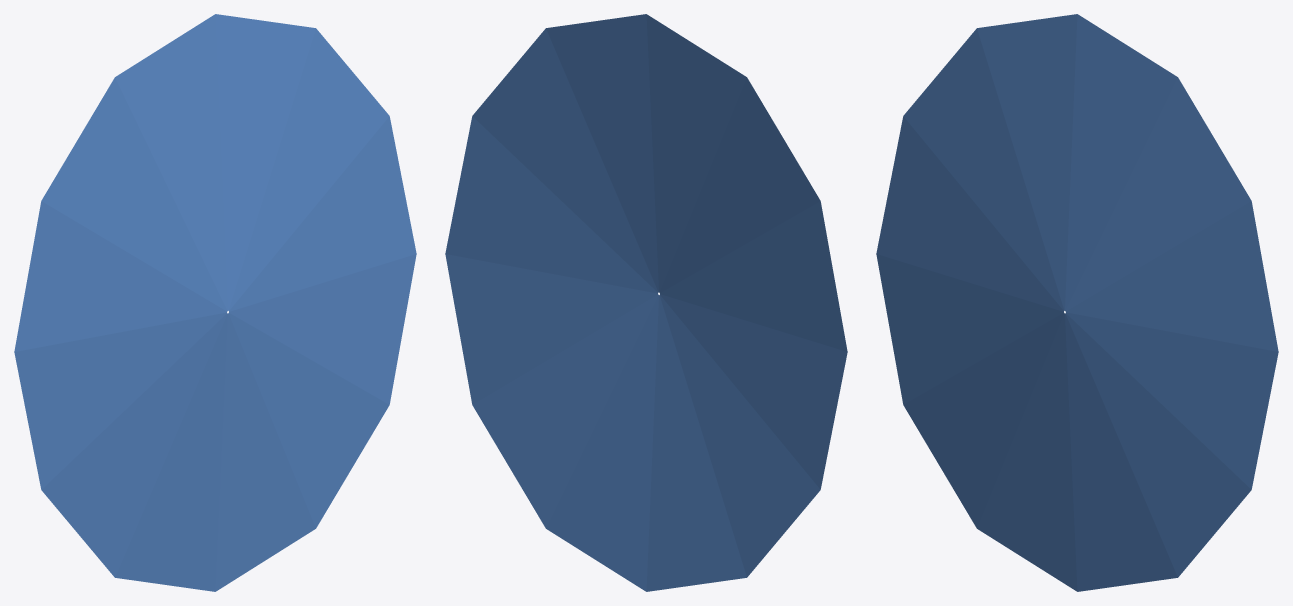
The model's file is PORTAL2.fbx.
3 renders of one model, left to right at view 1: azimuth 30°, elevation 25°; view 2: azimuth 150°, elevation 25°; view 3: azimuth 330°, elevation 25°, orthographic.
Visible parts, largest first — view 1: Cone; view 2: Cone; view 3: Cone.
Part boxes in pixels (<box>): Cone: <box>14,14,416,591</box>; Cone: <box>445,14,847,591</box>; Cone: <box>876,14,1278,591</box>.
Bounding box in the file's own units: 717 × 985 × 38.74.
